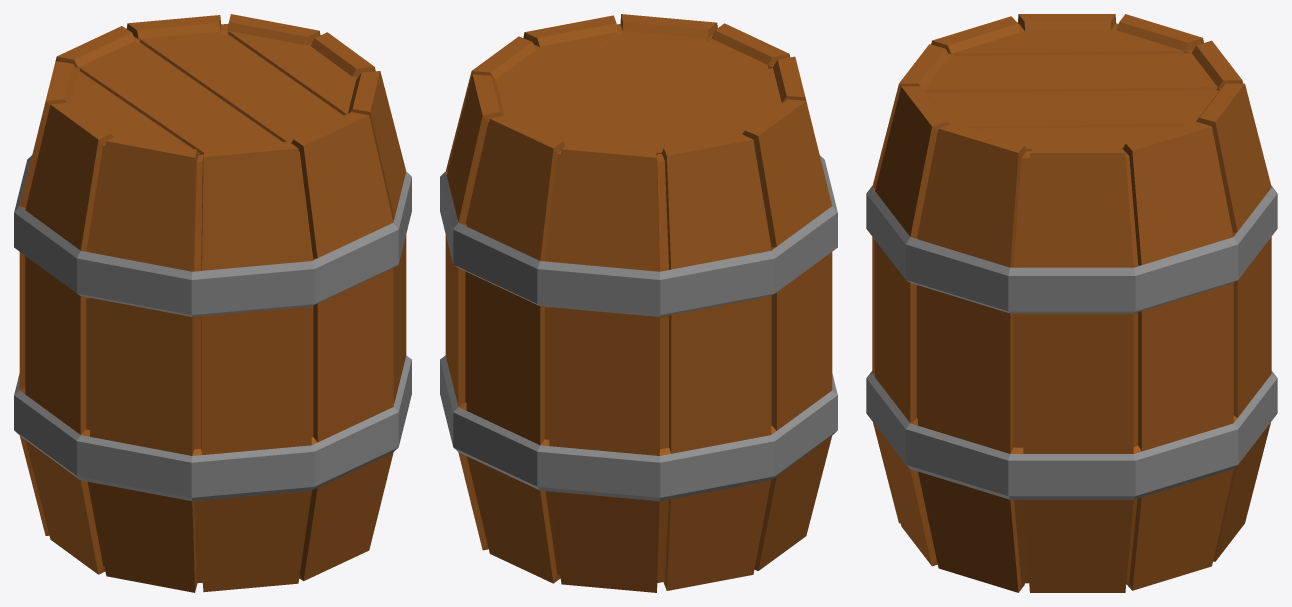
The model's file is WoodenBarrel.fbx.
The picture shows the model from 3 angles, left to right: view 1: azimuth 30°, elevation 25°; view 2: azimuth 150°, elevation 25°; view 3: azimuth 270°, elevation 25°; orthographic projection.
Parts seen in each view (by area): view 1: WoodenBarrel; view 2: WoodenBarrel; view 3: WoodenBarrel.
Boxes of the visible parts, left/top/right/bottom form: WoodenBarrel: left=14, top=14, right=411, bottom=592; WoodenBarrel: left=440, top=14, right=837, bottom=592; WoodenBarrel: left=866, top=14, right=1277, bottom=592.
Size of the model in its own units: 84.7 by 105 by 89.05.
Materials: 1 (1 with a texture image).
